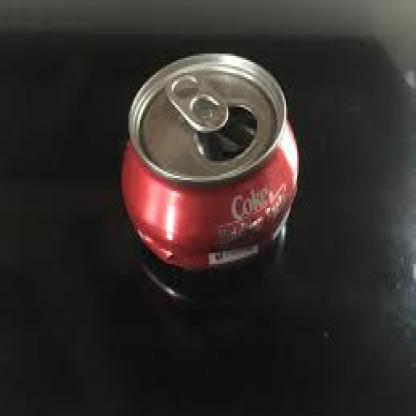METAL: (117, 52, 299, 268)
